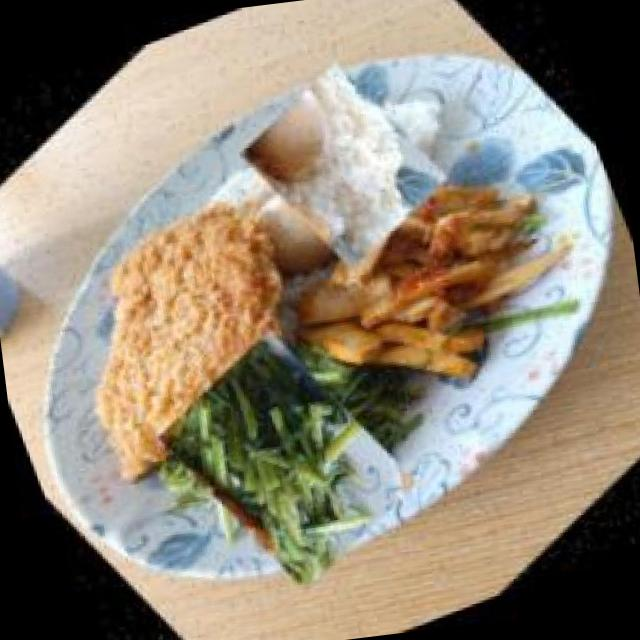fried_chicken: (0, 138, 382, 530)
rice: (213, 35, 475, 297)
water_spinach: (125, 296, 454, 624)
